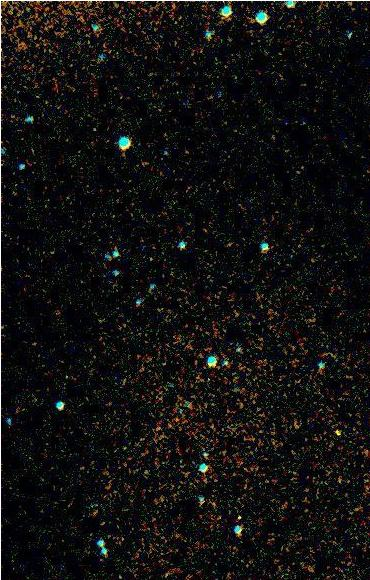star: (322, 416, 352, 446)
